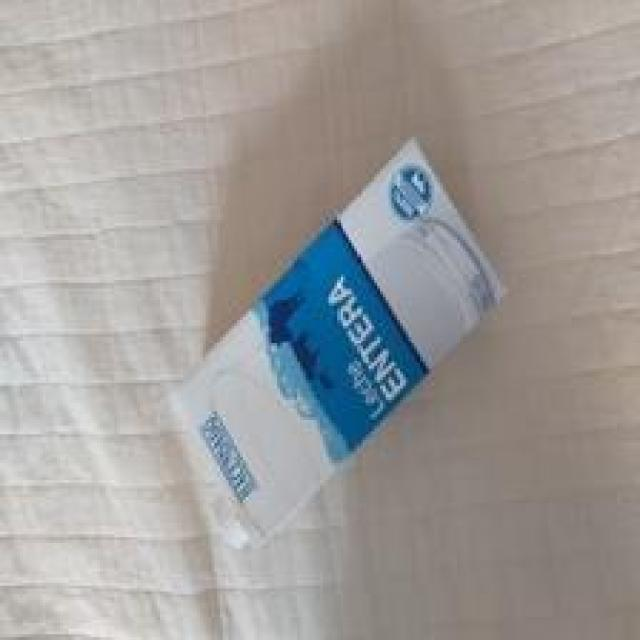Carton: (173, 137, 513, 541)
